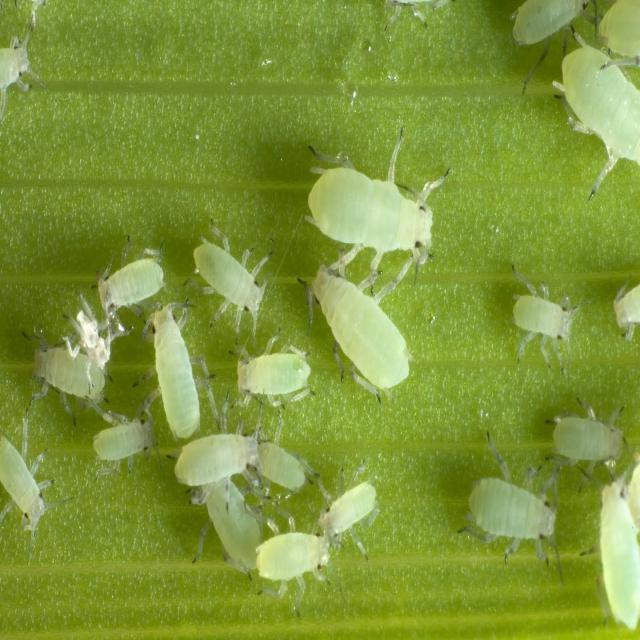aphid: (293, 126, 459, 255), (304, 256, 427, 399), (549, 49, 640, 208), (460, 470, 570, 576), (178, 203, 278, 314), (181, 464, 273, 584), (496, 252, 584, 372), (0, 426, 70, 563), (535, 399, 634, 486), (154, 281, 204, 449), (222, 333, 324, 410), (252, 516, 342, 602), (27, 336, 116, 416), (175, 416, 264, 496), (95, 234, 171, 324), (246, 410, 319, 500), (0, 17, 48, 142), (88, 400, 158, 477), (314, 470, 382, 532), (600, 254, 640, 353)
